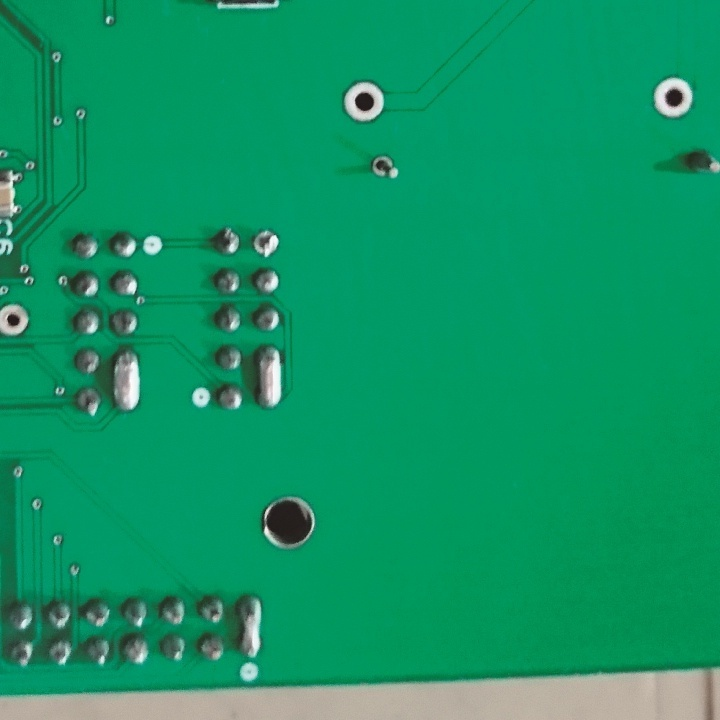F: (341, 77, 390, 130), (651, 75, 698, 125), (251, 226, 284, 263), (1, 300, 33, 338), (369, 151, 403, 185)
P: (233, 590, 268, 663), (108, 346, 146, 413), (254, 342, 287, 410)
